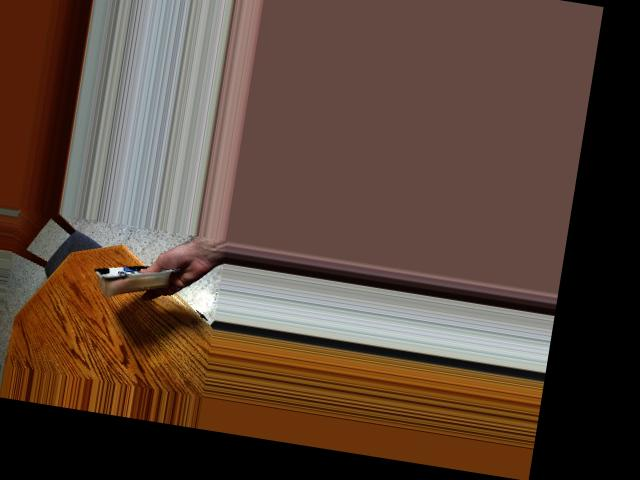cheese: (93, 240, 175, 313)
